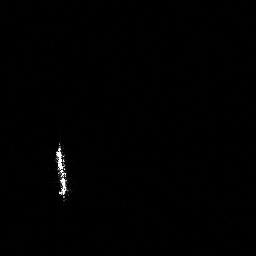ship: (49, 138, 74, 202)
